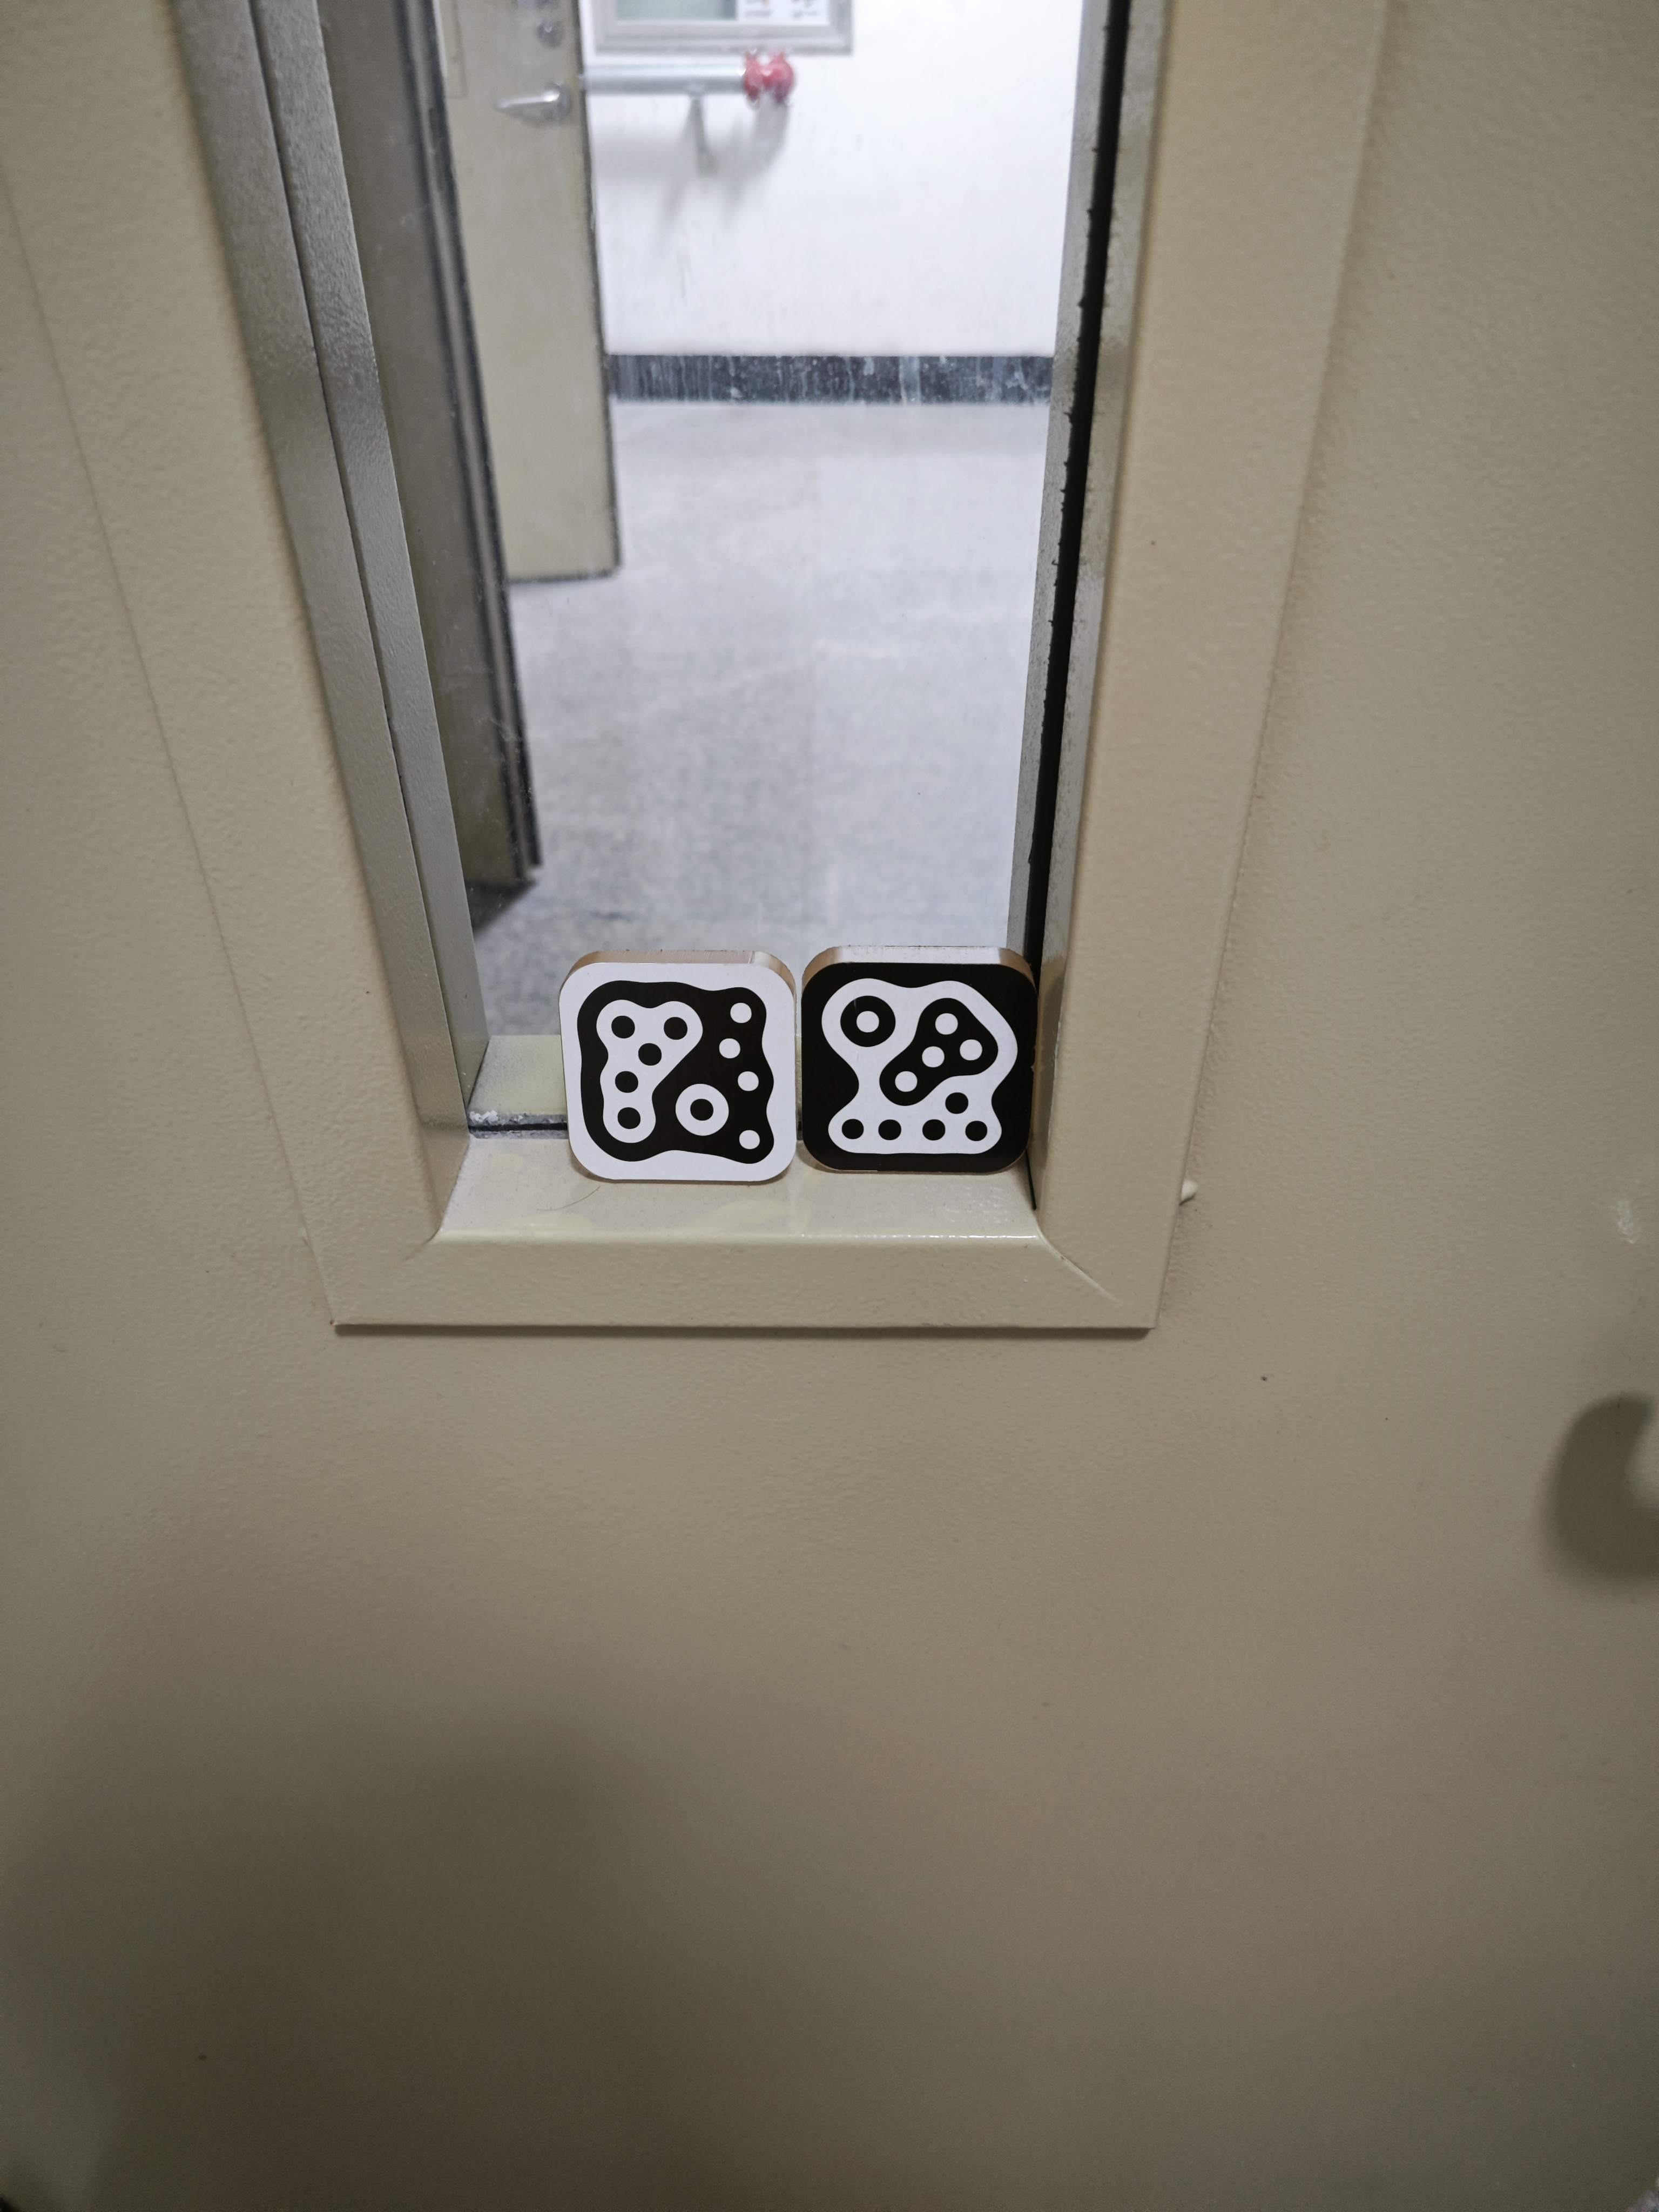mark1: (570, 975, 779, 1169)
mark2: (824, 974, 1021, 1158)
